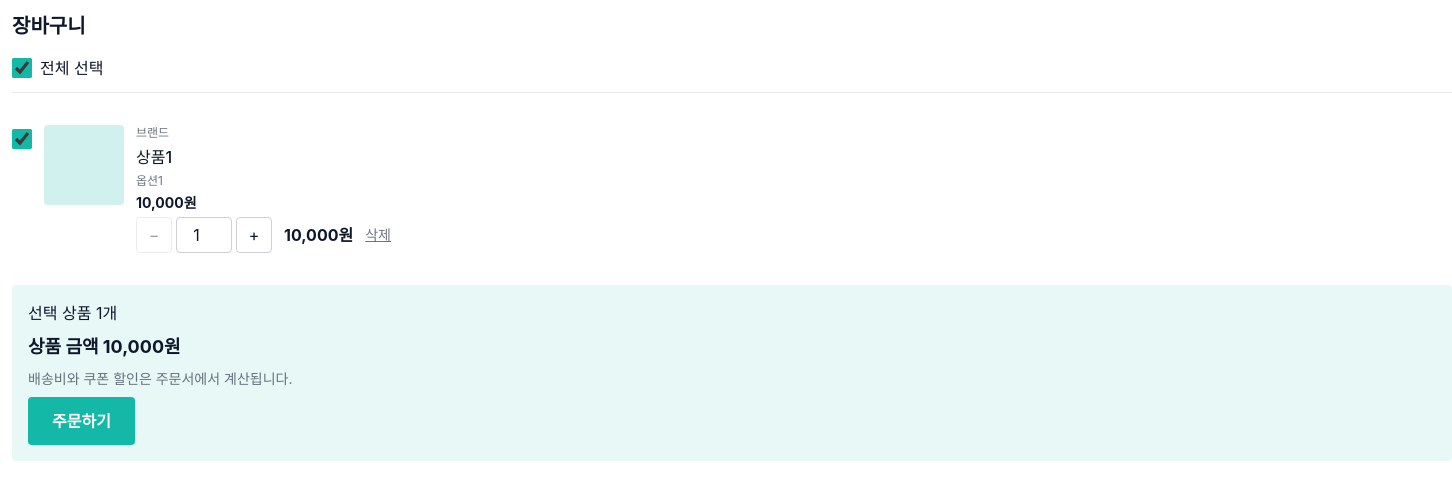
Test case: 수량 변경 실패 시 메시지를 보여 주고 서버 값으로 되돌린다
This screenshot has width=1452, height=502.
Click the button named "수량 늘리기".
click(254, 235)  # box [236,217,272,253]
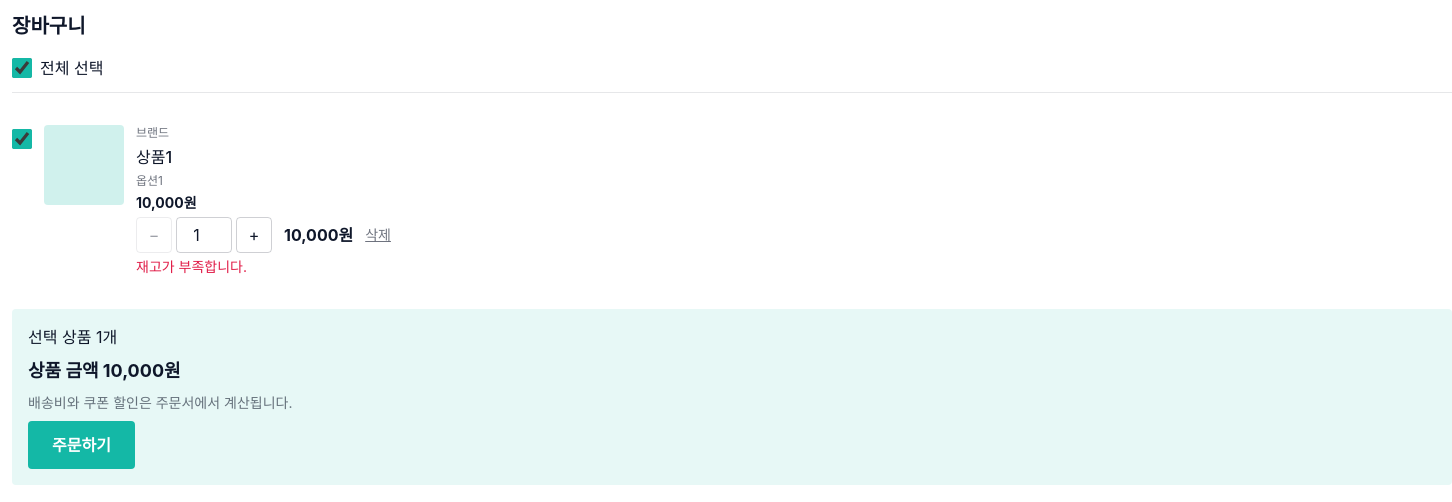
Expected: the number field named "수량" holds "1", [176,217,232,253]
Now the message reads "재고가 부족합니다.", box [136,258,247,275]
